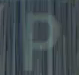Parking: (9, 0, 70, 68)
